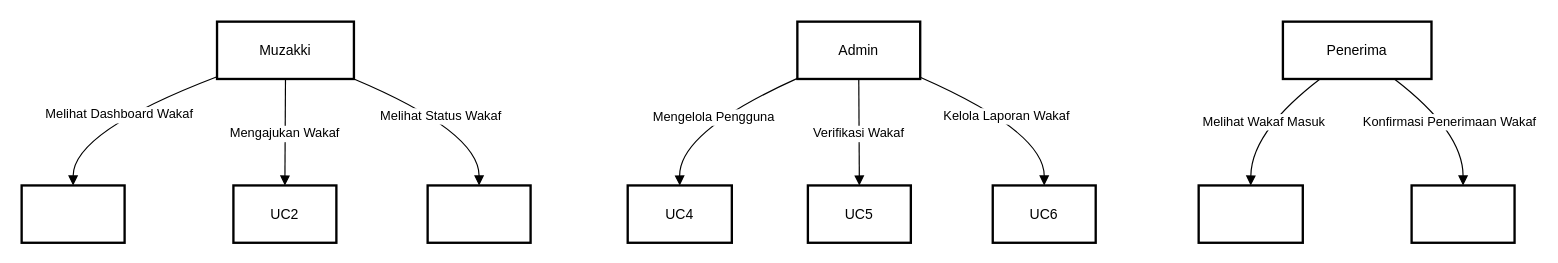
The diagram is 1558 pixels wide and 263 high, and some of its shapes have lost their labels. The shapes that lost their labels are listed below. From the top down, each one's centre as x and y in pixels, then its label:
At pixel 72 213: "UC1".
At pixel 478 213: "UC3".
At pixel 1250 213: "UC7".
At pixel 1462 213: "UC8".
